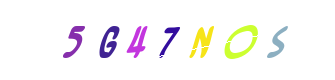0: (176, 0, 256, 80)
4: (97, 0, 177, 80)
5: (43, 0, 123, 80)
7: (126, 0, 206, 80)
G: (90, 0, 170, 80)
N: (162, 0, 242, 80)
S: (196, 0, 276, 80)
